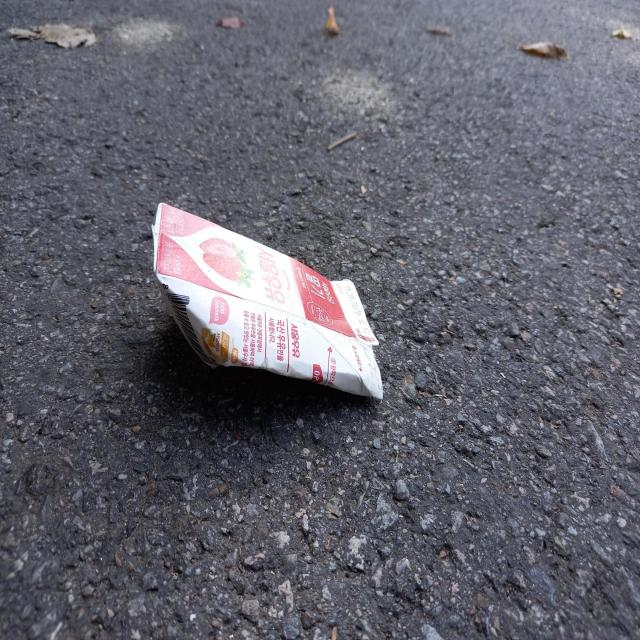paperpack: (152, 203, 383, 398)
